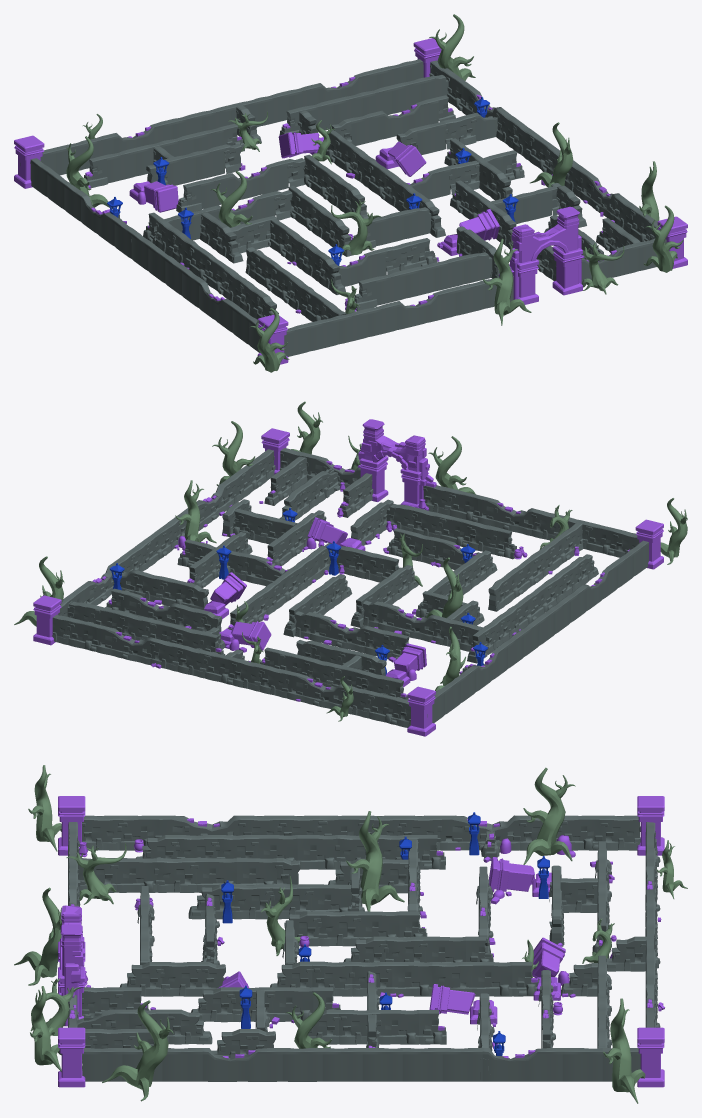
File: Labyrinth_1.fbx
The picture shows the model from 3 angles, top to bottom: view 1: azimuth 30°, elevation 25°; view 2: azimuth 150°, elevation 25°; view 3: azimuth 270°, elevation 25°; orthographic projection. The views are drawn at different scales.
Parts seen in each view (by area): view 1: pCube4 (×41), Wall4_pCube4 (×13), pCube78 (×6), Main, pCube80 (×3), Tree2, Pillar_L, Tree5, Tree3, Tree14, Pillar_R2, Tree13 (+13 smaller); view 2: pCube4 (×24), Wall4_pCube4 (×13), Main, pCube78 (×2), Pillar_R2, Pillar_L2, Tree10, Tree2, Pillar_R1, Tree9, Tree3, Pillar_fall1 (+10 smaller); view 3: pCube78 (×35), pCube4 (×20), pCube99 (×12), Wall4_pCube4 (×4), pCube80 (×4), Tree9, Tree13, Tree11, Tree14, Pillar_L1, Pillar_L2, Tree2 (+15 smaller).
Boxes of the visible parts, x1=… form: pCube4 (×41): x1=30, y1=63, x2=552, y2=356; Wall4_pCube4 (×13): x1=81, y1=70, x2=638, y2=332; pCube78 (×6): x1=216, y1=114, x2=479, y2=294; Main: x1=512, y1=206, x2=579, y2=262; pCube80 (×3): x1=84, y1=155, x2=377, y2=310; Tree2: x1=483, y1=238, x2=531, y2=325; Pillar_L: x1=552, y1=246, x2=582, y2=295; Tree5: x1=644, y1=205, x2=683, y2=272; Tree3: x1=250, y1=308, x2=289, y2=372; Tree14: x1=429, y1=14, x2=475, y2=80; Pillar_R2: x1=14, y1=135, x2=44, y2=188; Tree13: x1=66, y1=136, x2=112, y2=208; pCube4 (×24): x1=68, y1=485, x2=617, y2=724; Wall4_pCube4 (×13): x1=79, y1=454, x2=618, y2=708; Main: x1=362, y1=419, x2=425, y2=471; pCube78 (×2): x1=134, y1=531, x2=436, y2=601; Pillar_R2: x1=407, y1=686, x2=435, y2=736; Pillar_L2: x1=33, y1=595, x2=61, y2=645; Tree10: x1=175, y1=480, x2=216, y2=543; Tree2: x1=428, y1=436, x2=475, y2=494; Pillar_R1: x1=635, y1=519, x2=663, y2=569; Tree9: x1=212, y1=421, x2=255, y2=485; Tree3: x1=660, y1=498, x2=687, y2=564; Pillar_fall1: x1=231, y1=621, x2=271, y2=650; pCube78 (×35): x1=78, y1=835, x2=646, y2=1057; pCube4 (×20): x1=82, y1=815, x2=640, y2=1081; pCube99 (×12): x1=117, y1=835, x2=512, y2=1044; Wall4_pCube4 (×4): x1=159, y1=815, x2=562, y2=1081; pCube80 (×4): x1=399, y1=835, x2=538, y2=1044; Tree9: x1=102, y1=1000, x2=173, y2=1101; Tree13: x1=523, y1=767, x2=575, y2=864; Tree11: x1=346, y1=811, x2=404, y2=911; Tree14: x1=603, y1=998, x2=645, y2=1103; Pillar_L1: x1=58, y1=1027, x2=85, y2=1087; Pillar_L2: x1=637, y1=1027, x2=664, y2=1087; Tree2: x1=14, y1=887, x2=61, y2=985.
Bounding box in the file's own units: 6877 × 1086 × 7147.
